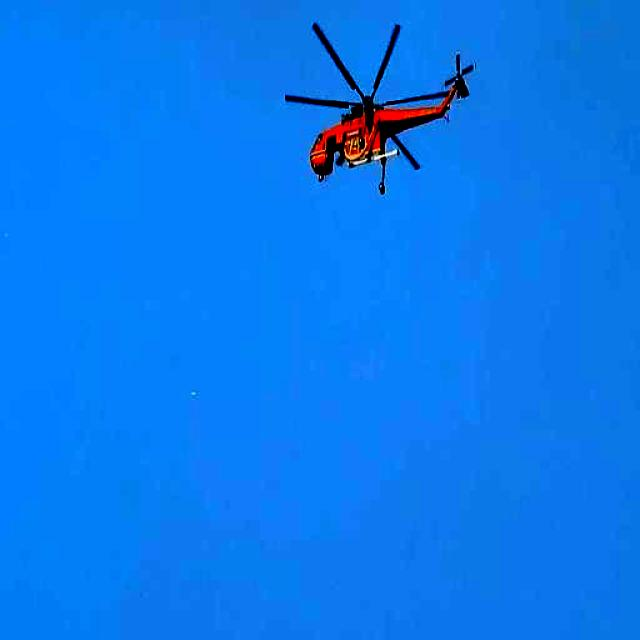drone: (286, 19, 479, 204)
